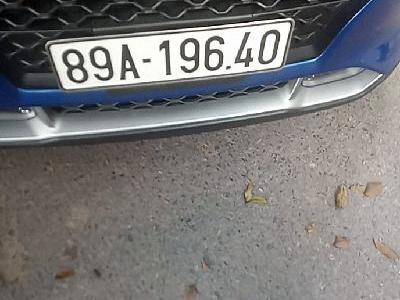number: (45, 20, 296, 89)
